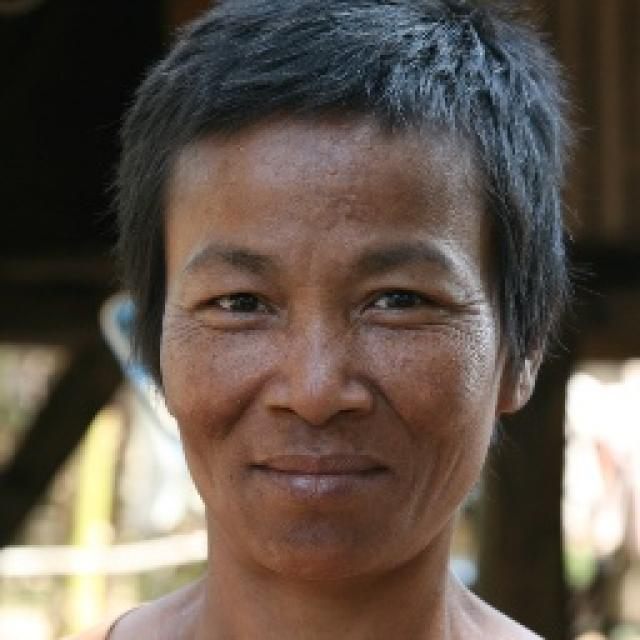earlobe: (499, 377, 537, 419), (165, 394, 177, 424)
eye: (202, 287, 279, 325), (359, 288, 443, 320)
nose: (265, 410, 375, 443)
wholeear: (498, 282, 562, 411)
